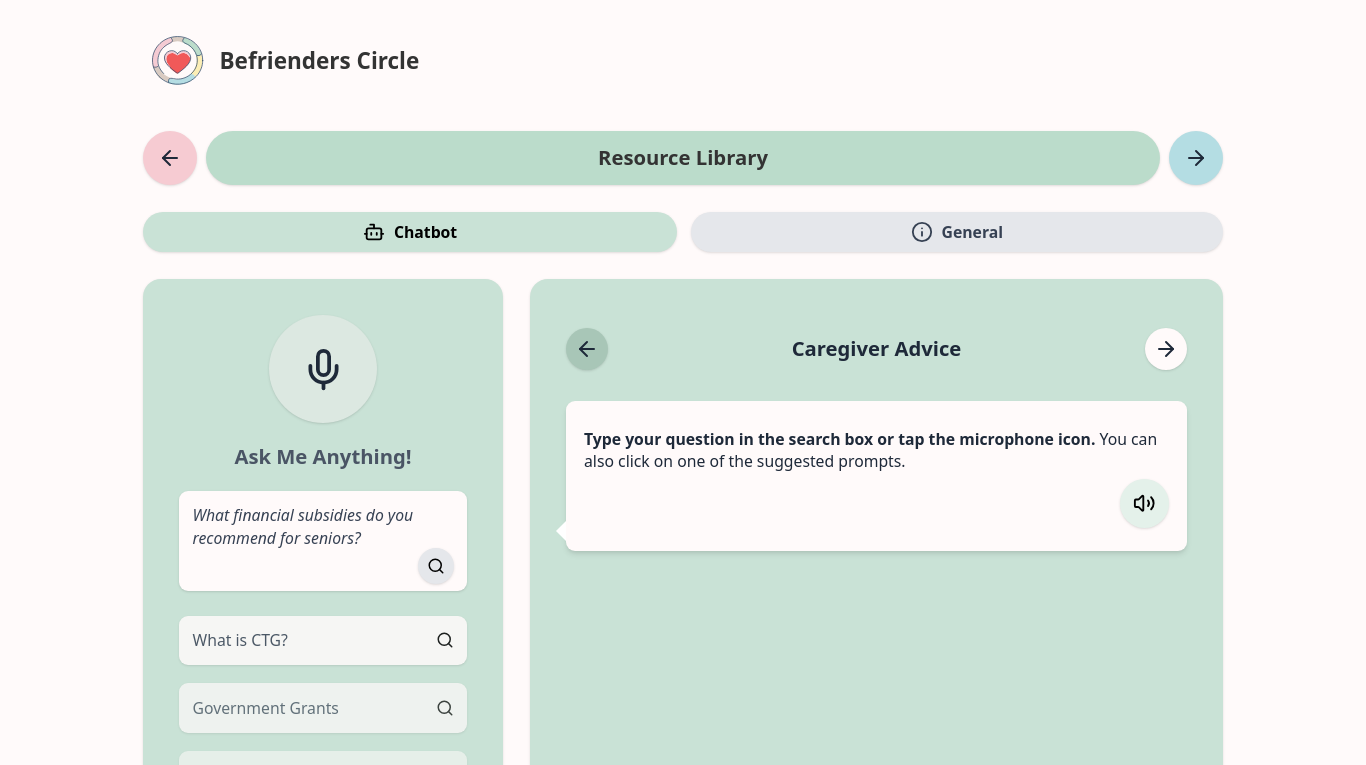
Test: <ResourceLibrary /> Resource Cards - Multiple & Empty (vi.mock) › shows empty state when no resources are available for a category
Step 1. Click the button "General" → (957, 232), box [691,212,1223,252]
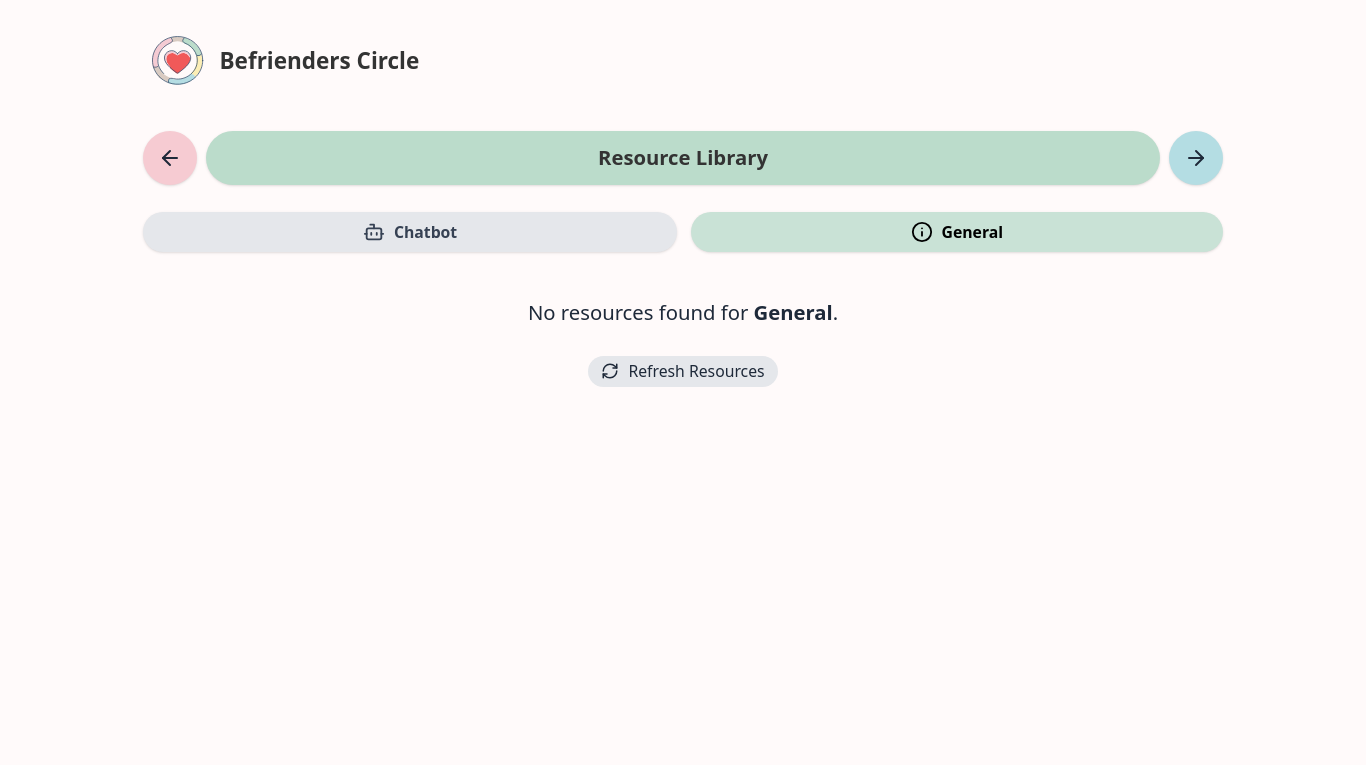
Expected: the text "No resources found for General. Refresh Resources" is shown, [528,298,838,387]
Expected: the button "Refresh Resources" is shown, [588,356,778,387]
